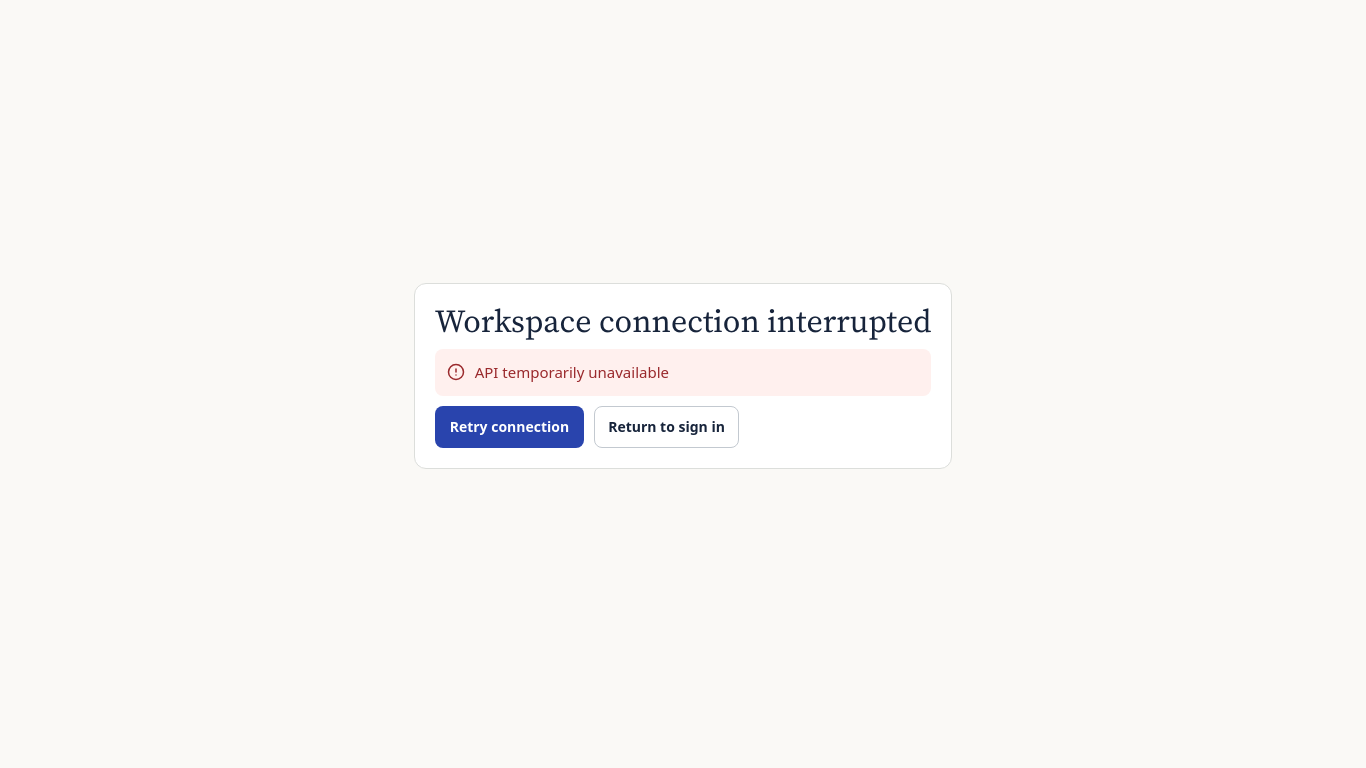
Test: recovers the session via /auth/me with the cookie; an outage keeps UI state and reconnects
Click the button "Retry connection" at (509, 427), box [435,406,584,448]
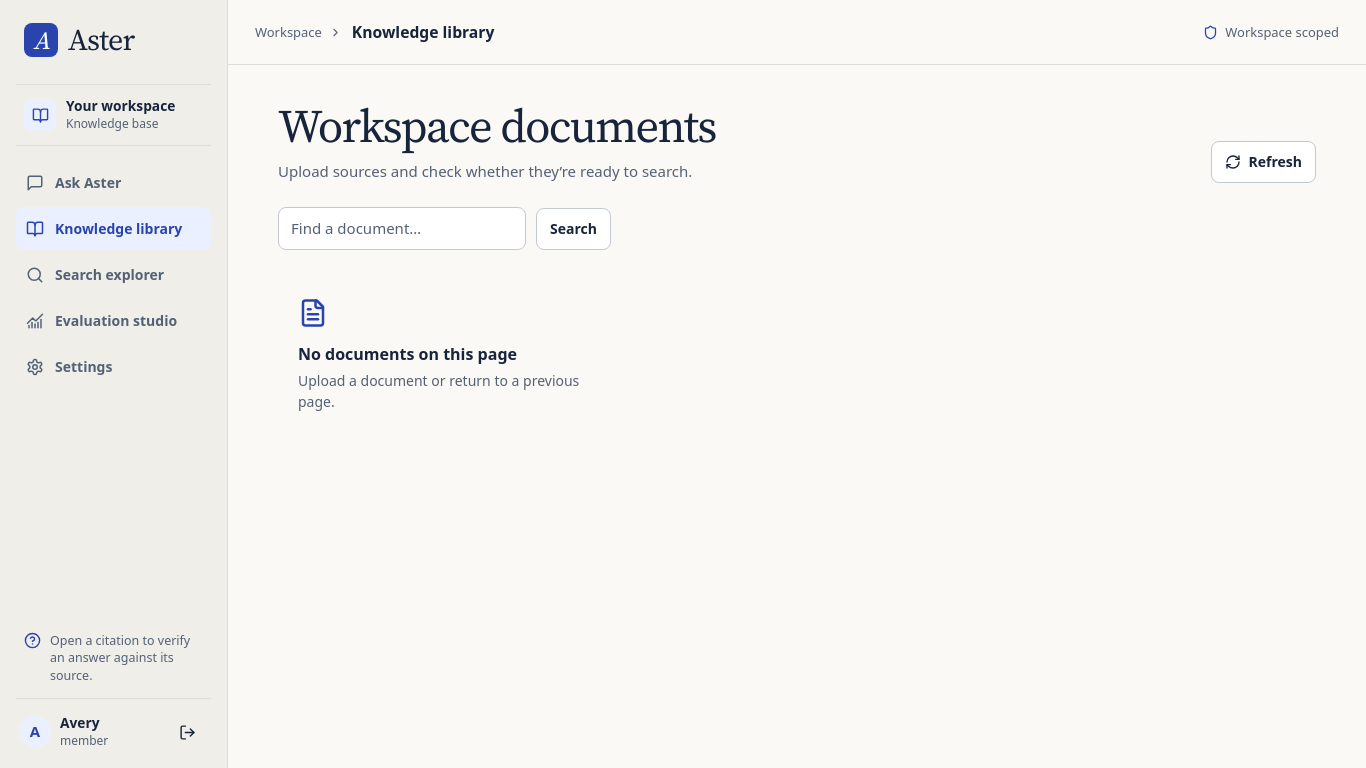
Result: the heading "Knowledge library" is shown at [352,23,494,41]
